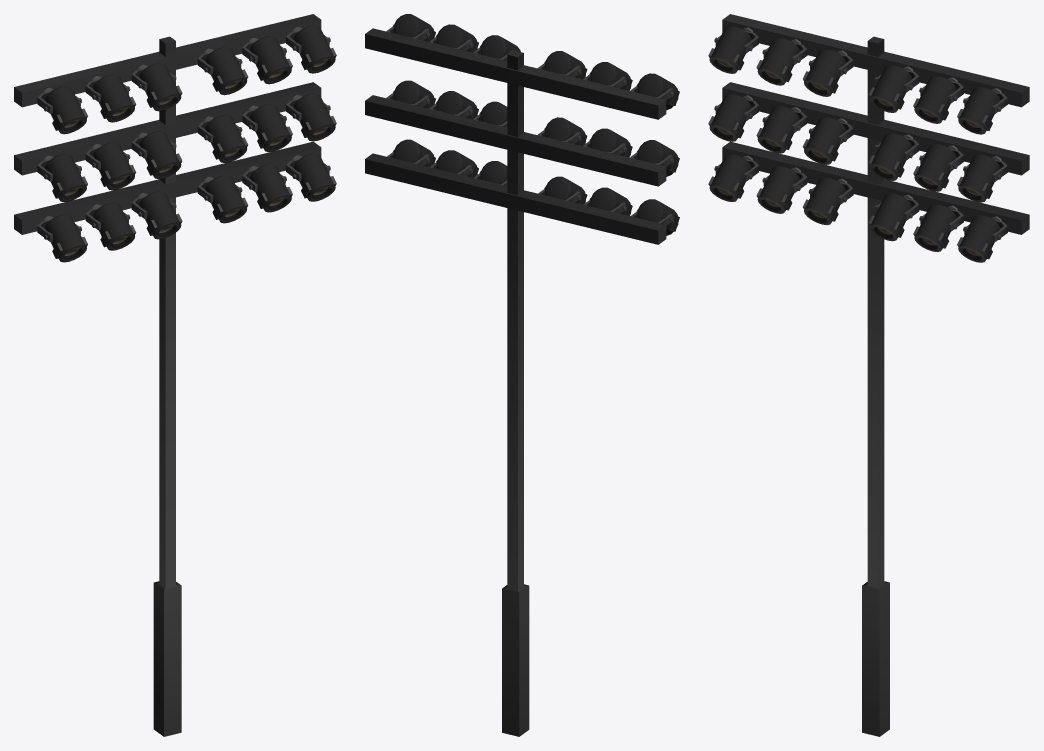
The model's file is StadiumLight_Medium.fbx.
3 renders of one model, left to right at view 1: azimuth 30°, elevation 25°; view 2: azimuth 150°, elevation 25°; view 3: azimuth 330°, elevation 25°, orthographic. The views are drawn at different scales.
Parts seen in each view (by area): view 1: StadiumLight_Medium; view 2: StadiumLight_Medium; view 3: StadiumLight_Medium.
Boxes of the visible parts, <box> form: StadiumLight_Medium: <box>14,14,336,736</box>; StadiumLight_Medium: <box>365,14,679,736</box>; StadiumLight_Medium: <box>708,14,1029,736</box>.
Bounding box in the file's own units: 498 × 1099 × 111.
